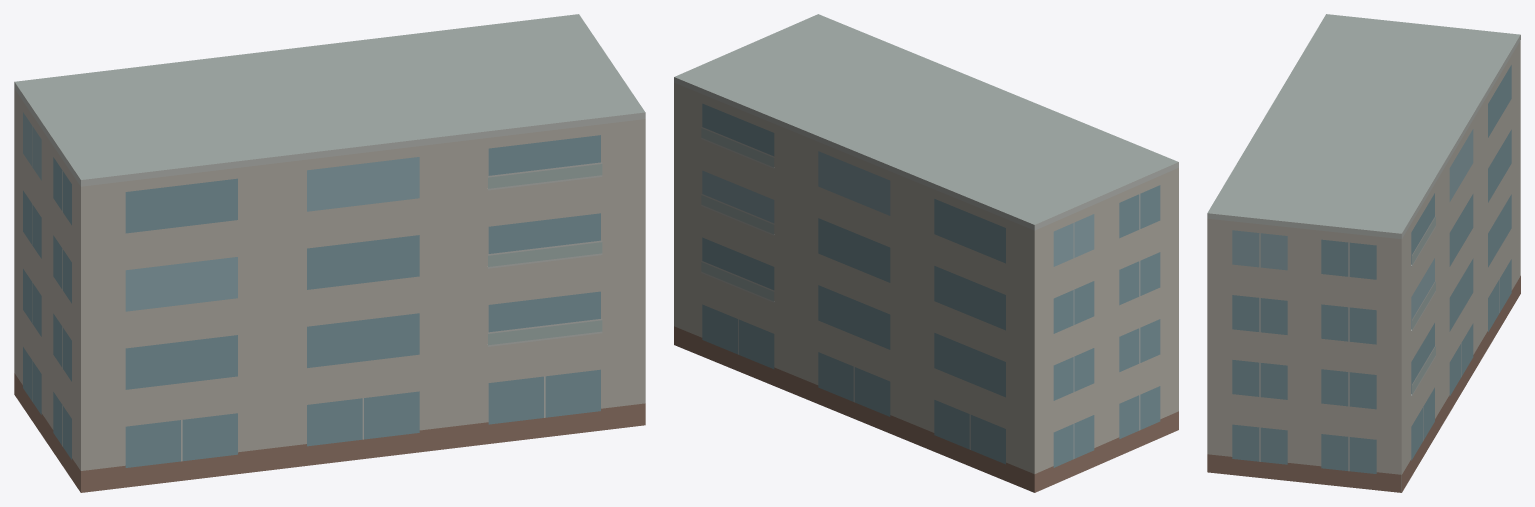
The model's file is survey-upis-33032959.glb.
3 views of the same model, side by side, from view 1: azimuth 30°, elevation 25°; view 2: azimuth 150°, elevation 25°; view 3: azimuth 270°, elevation 25° (orthographic). The views are drawn at different scales.
Parts seen in each view (by area): view 1: survey-upis-33032959.tmp; view 2: survey-upis-33032959.tmp; view 3: survey-upis-33032959.tmp.
Boxes of the visible parts, x1=… form: survey-upis-33032959.tmp: x1=14, y1=14, x2=645, y2=492; survey-upis-33032959.tmp: x1=674, y1=14, x2=1178, y2=492; survey-upis-33032959.tmp: x1=1207, y1=14, x2=1520, y2=492.
Size of the model in its own units: 21.11 by 11.6 by 12.73.
